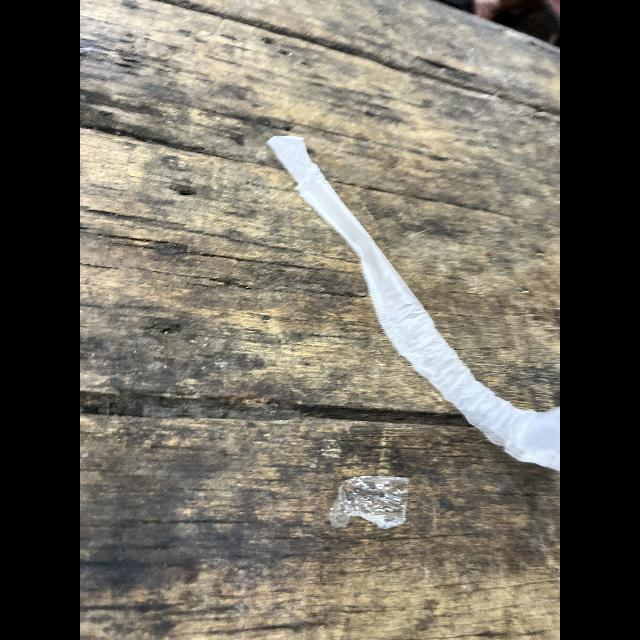scrap_plastic: (264, 134, 560, 470), (331, 474, 411, 524)
